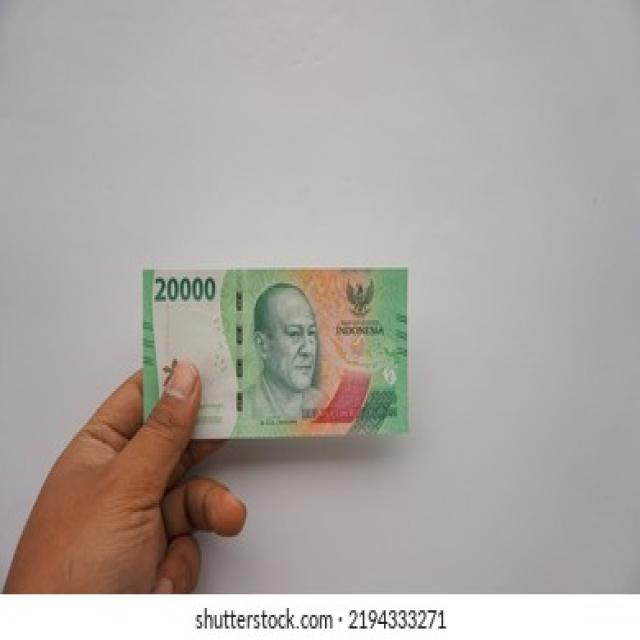dua puluh ribu rupiah: (142, 268, 410, 438)
